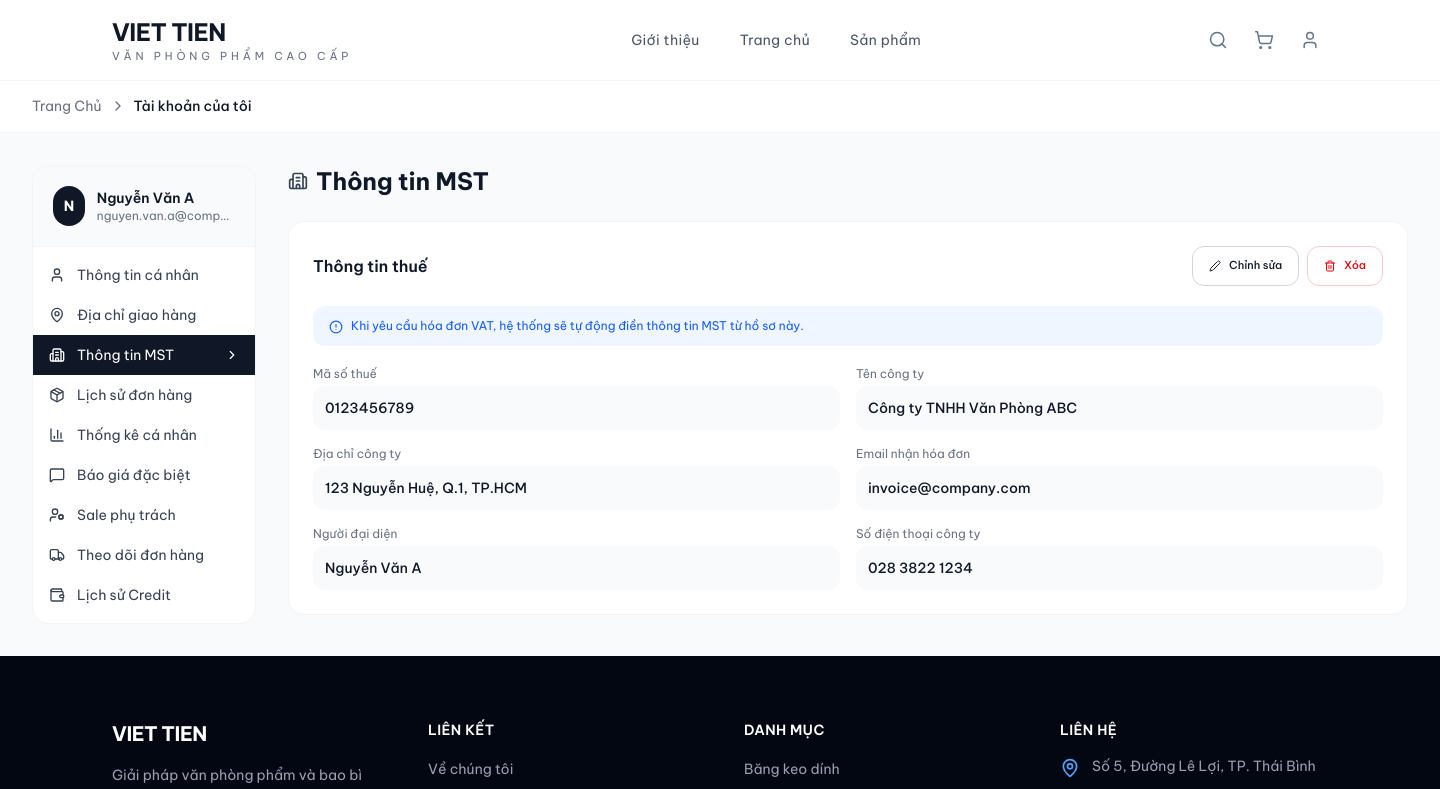
Scenario: Profile › updates tax information after saving MST details
Click the button "Chỉnh sửa" at (1246, 266), box [1192,246,1299,286]
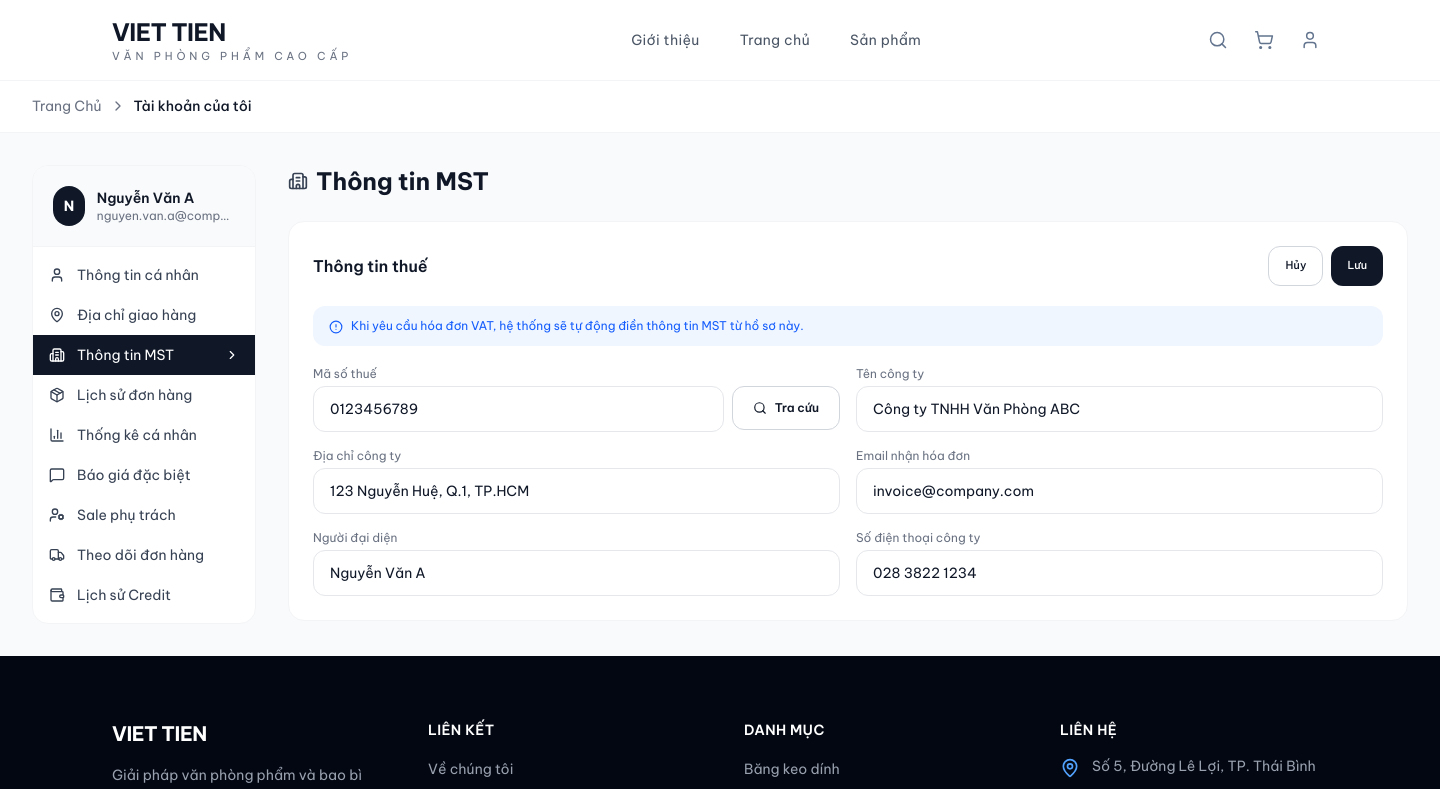
Replace the text in the field showing "0123456789" below "Mã số thuế" with "9876543210" at (518, 409), box [313,386,724,432]
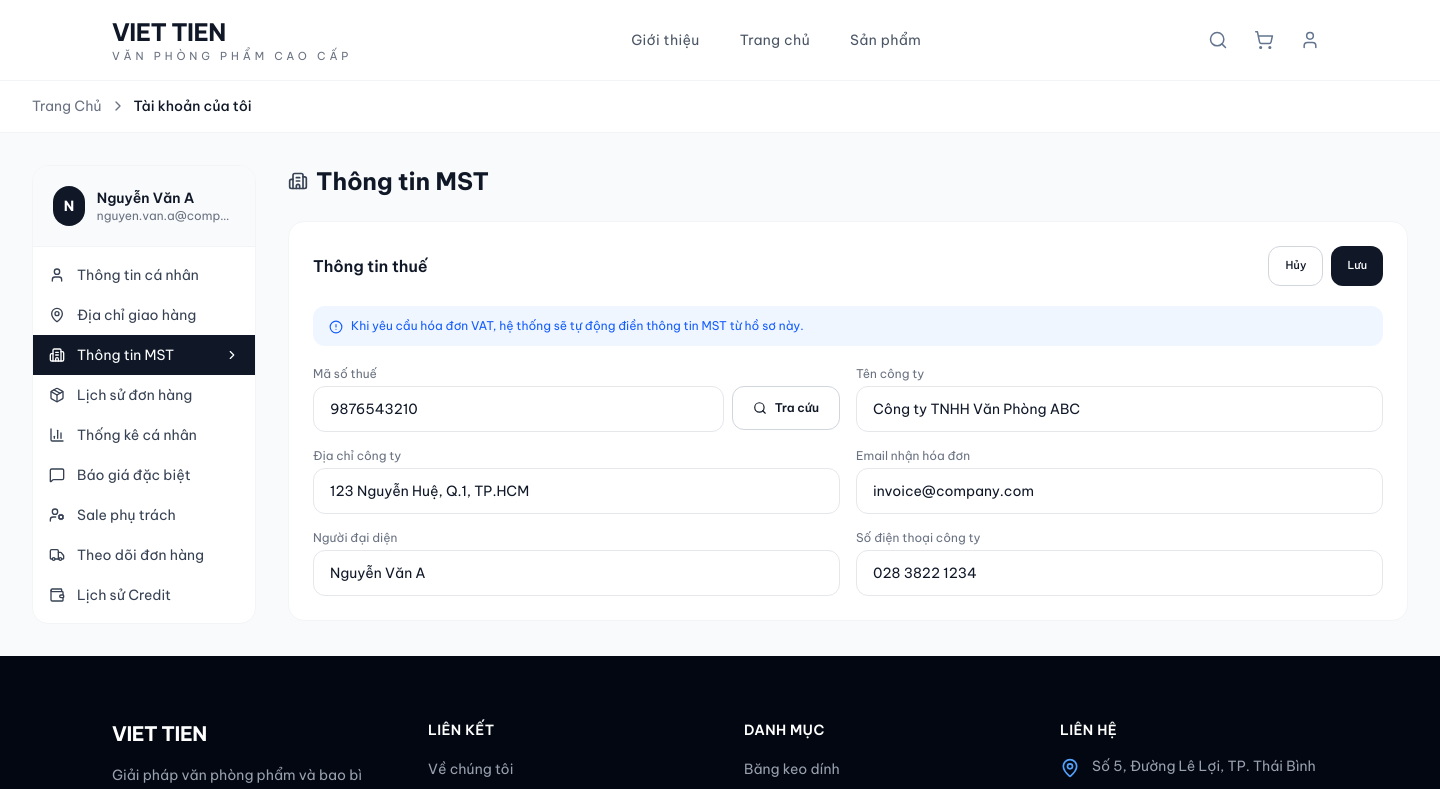
Replace the text in the field showing "Công ty TNHH Văn Phòng ABC" below "Tên công ty" with "Demo XYZ" at (1120, 409), box [856,386,1383,432]
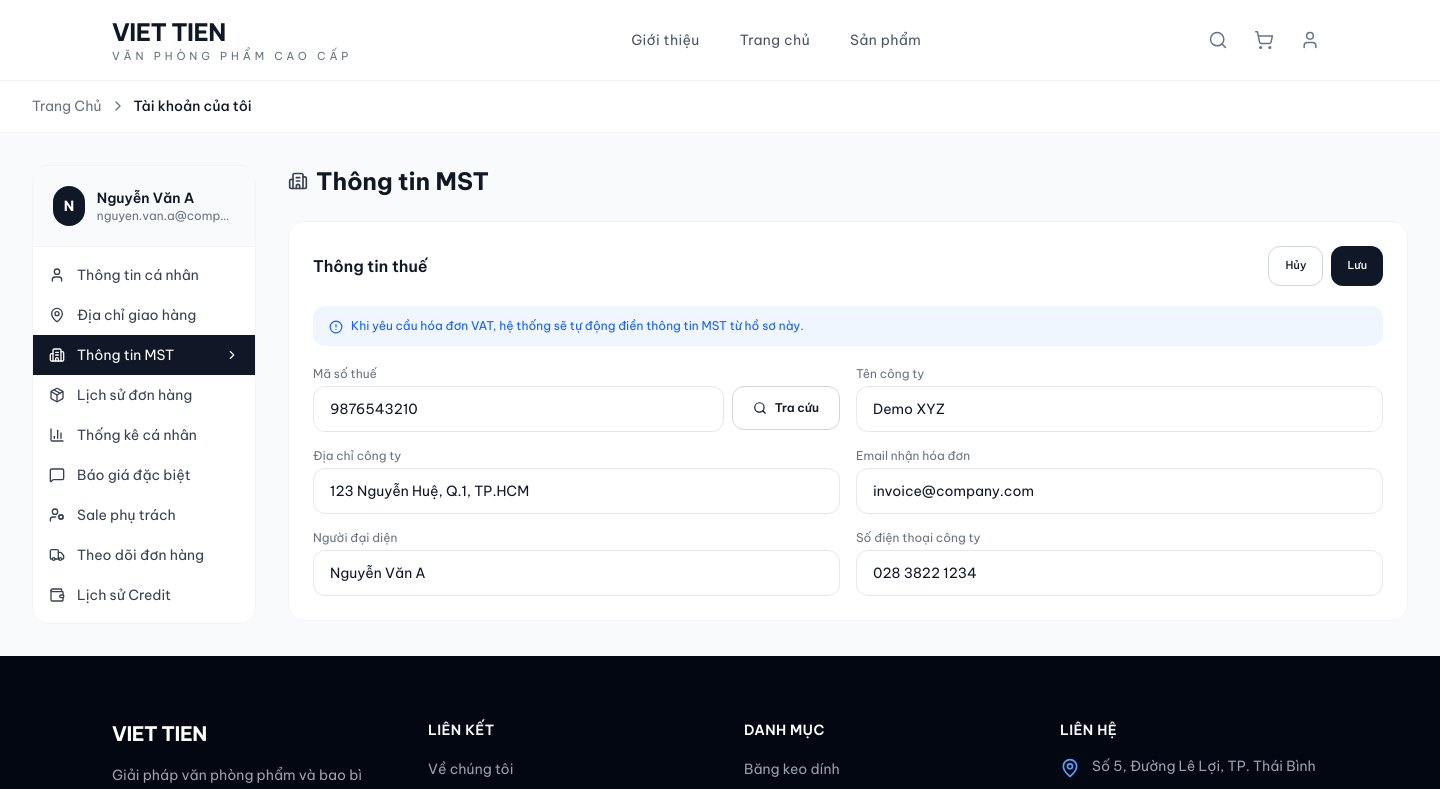
Replace the text in the field showing "123 Nguyễn Huệ, Q.1, TP.HCM" below "Địa chỉ công ty" with "88 Lê Lợi, Q.1" at (576, 491), box [313,468,840,514]
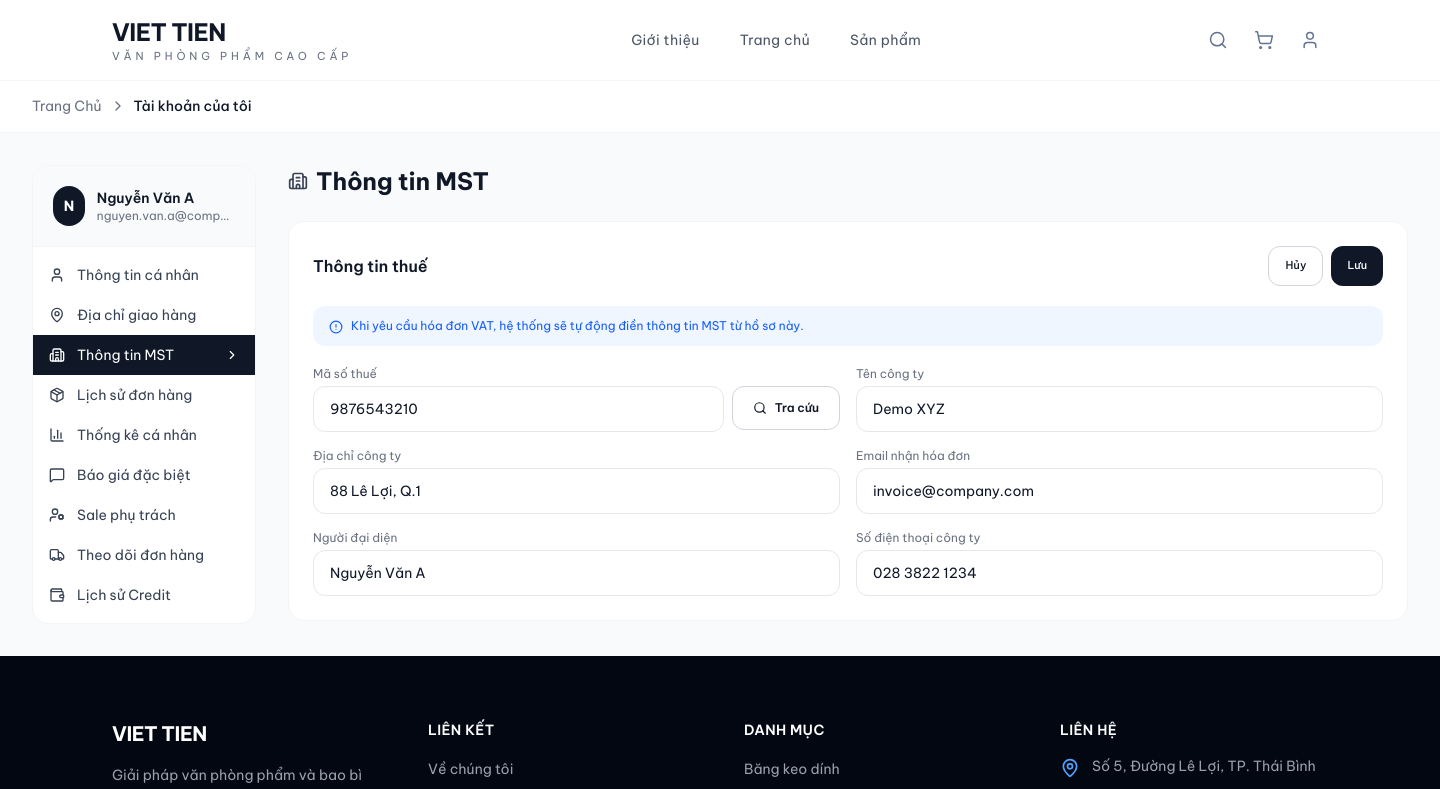
Type "ketoan@demo.vn" into the field showing "invoice@company.com" below "Email nhận hóa đơn" at (1120, 491), box [856,468,1383,514]
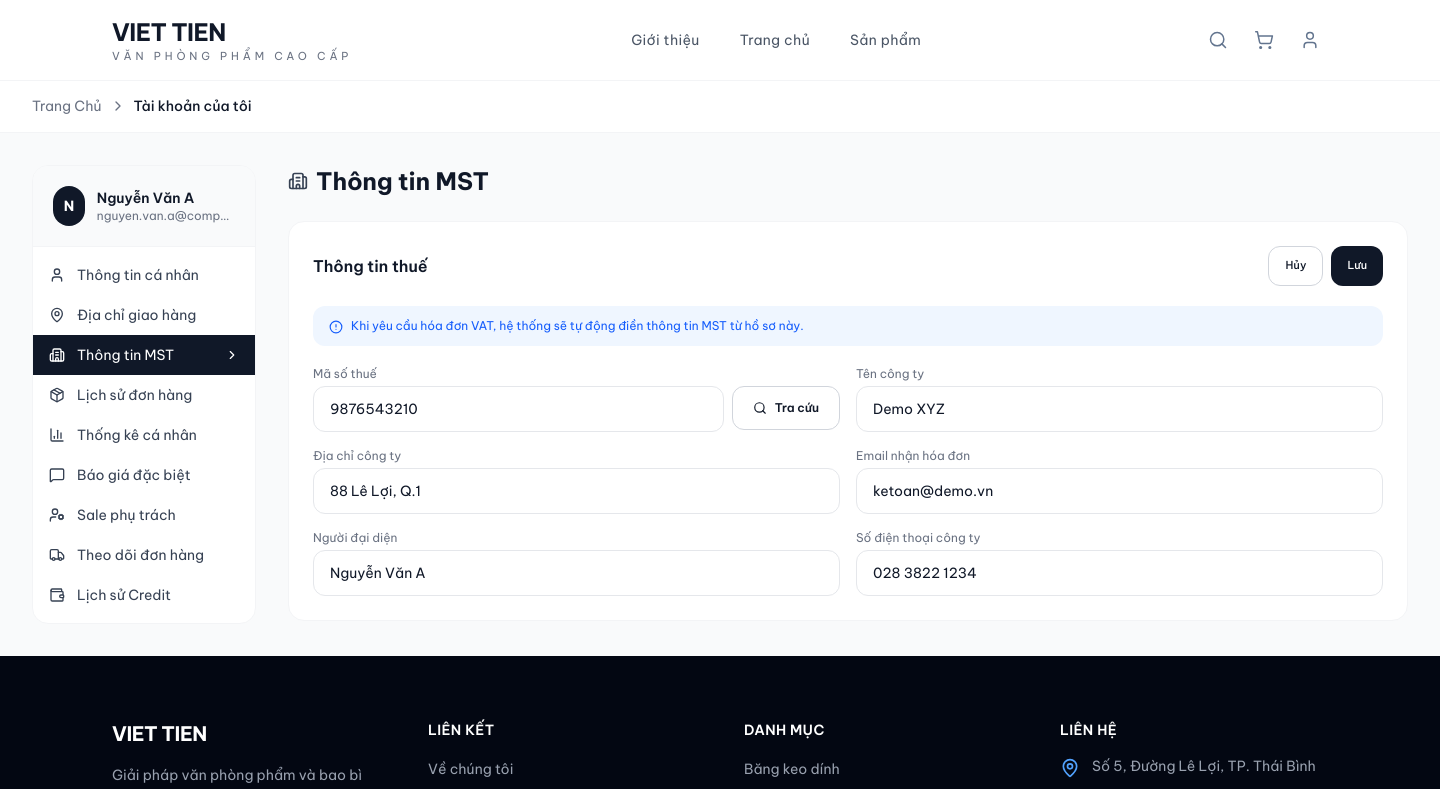
Click the button "Lưu" at (1357, 266), box [1331,246,1383,286]
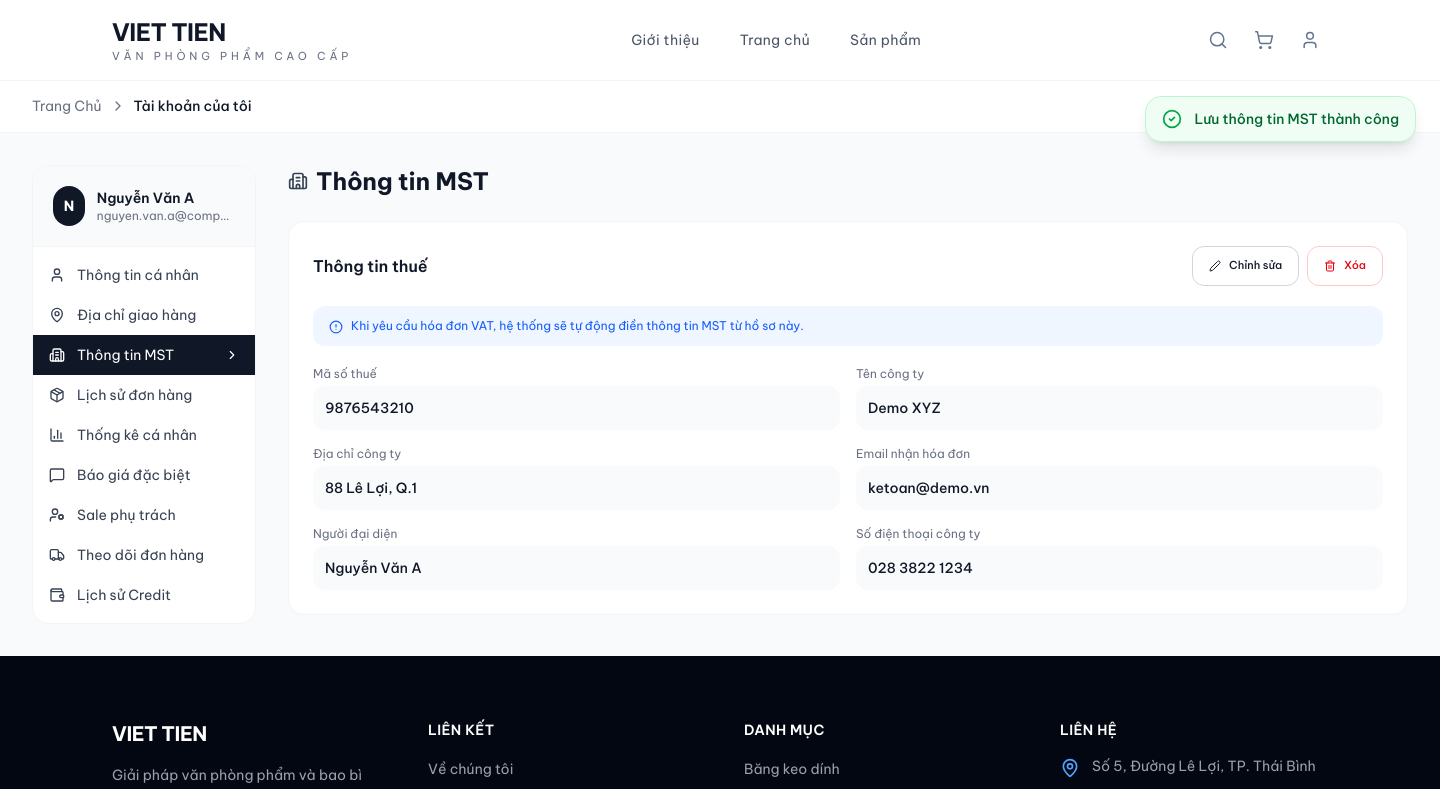
Now the text "9876543210" is shown, box [313,386,840,430]
Now the text "Demo XYZ" is shown, box [856,386,1383,430]
Now the text "88 Lê Lợi, Q.1" is shown, box [313,466,840,510]
